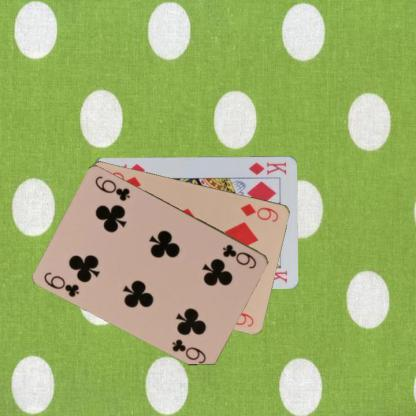6c: (42, 269, 82, 299), (220, 241, 258, 270)
6d: (238, 201, 280, 223)
Kd: (246, 159, 288, 176)
